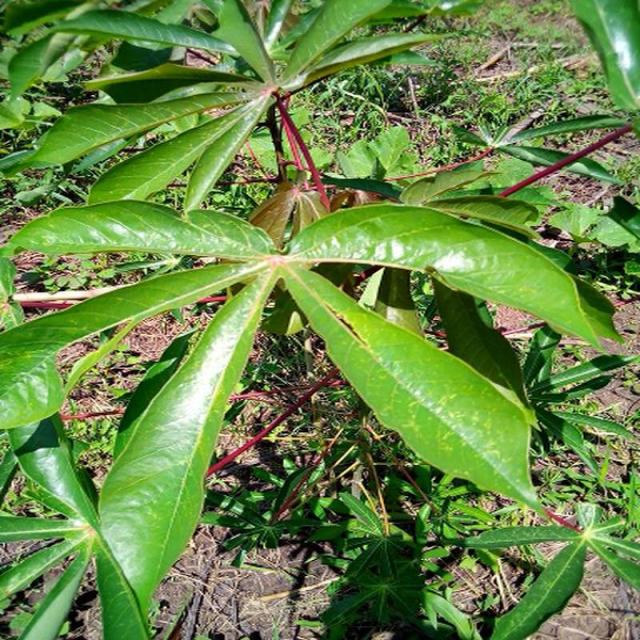cassava leaf: (95, 261, 279, 635), (282, 260, 544, 515), (283, 198, 625, 353)
